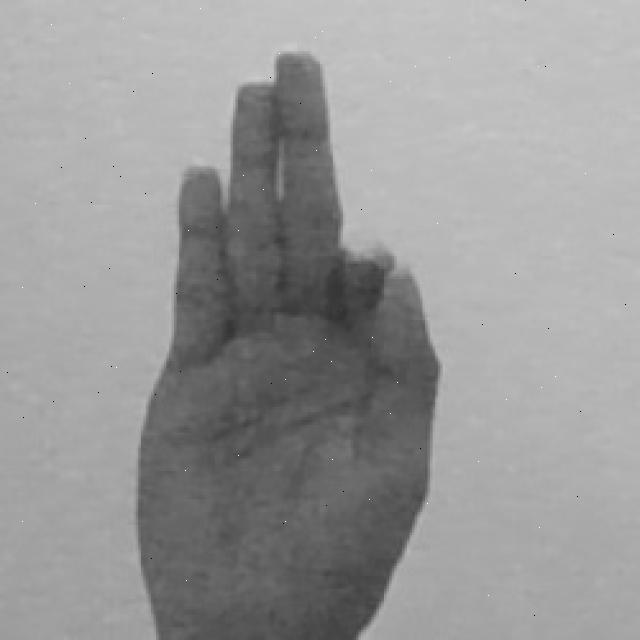F: (137, 51, 441, 640)
